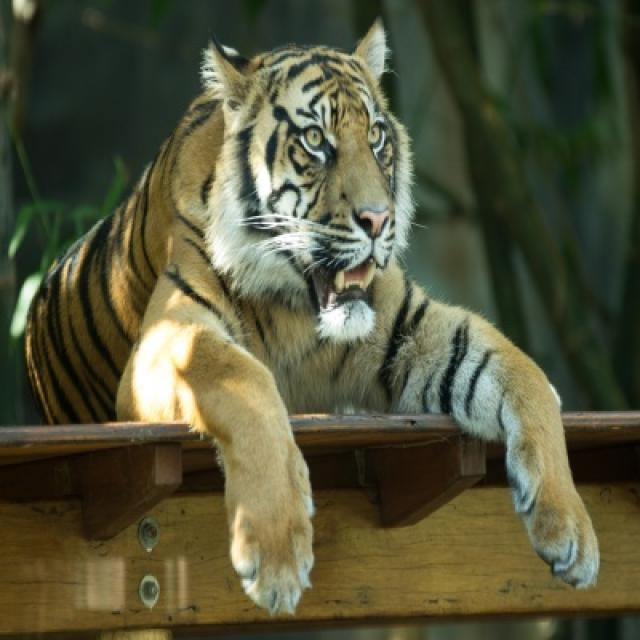Tiger: (19, 10, 605, 624)
